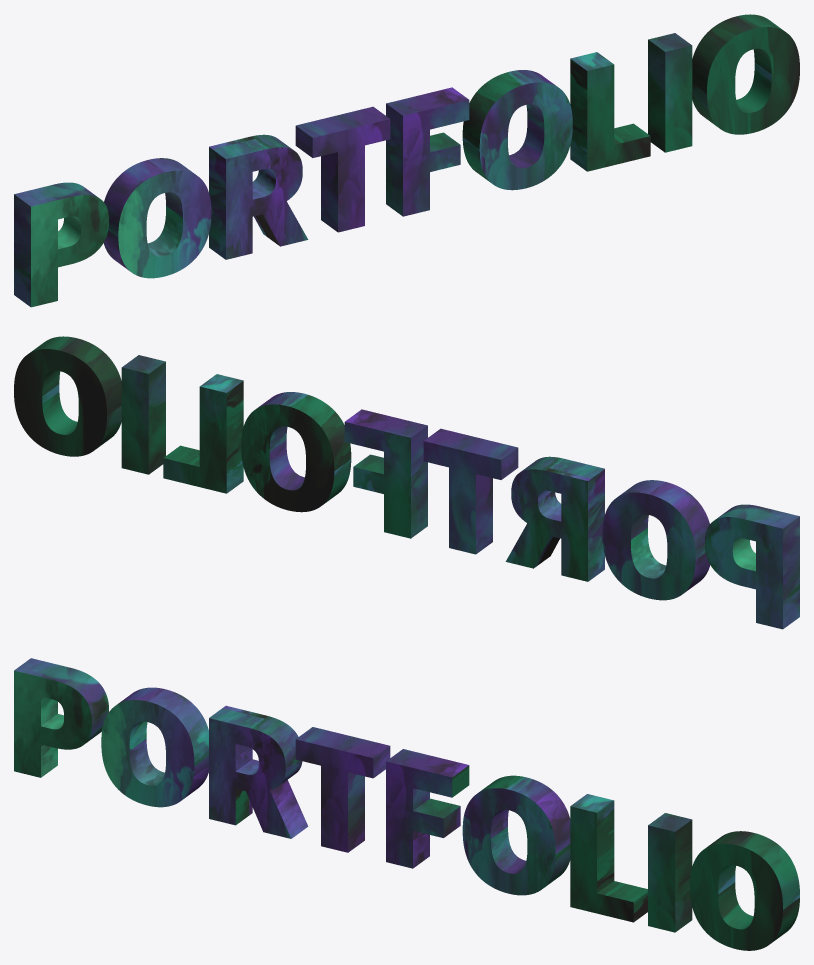
File: title3d.glb
3 views of the same model, one above another, from view 1: azimuth 30°, elevation 25°; view 2: azimuth 150°, elevation 25°; view 3: azimuth 330°, elevation 25° (orthographic).
Parts seen in each view (by area): view 1: O3, O2, O1, R, P, F, T, L, I; view 2: O3, O2, O1, R, P, F, T, L, I; view 3: R, O3, O2, O1, P, F, T, L, I.
Boxes of the visible parts, x1,y1,x2,y2 form: O3: [692, 14, 799, 134]; O2: [462, 70, 572, 190]; O1: [103, 158, 211, 278]; R: [209, 134, 308, 259]; P: [14, 182, 108, 307]; F: [386, 87, 469, 216]; T: [295, 106, 390, 232]; L: [570, 52, 650, 171]; I: [648, 33, 692, 152]; O3: [14, 336, 121, 456]; O2: [241, 392, 351, 512]; O1: [602, 480, 710, 600]; R: [505, 456, 604, 581]; P: [705, 504, 799, 629]; F: [344, 409, 427, 538]; T: [423, 428, 518, 554]; L: [163, 374, 243, 493]; I: [121, 355, 165, 474]; R: [209, 705, 308, 838]; O3: [690, 831, 799, 950]; O2: [462, 775, 570, 895]; O1: [101, 687, 208, 807]; P: [14, 658, 108, 777]; F: [386, 749, 469, 868]; T: [295, 727, 390, 852]; L: [570, 794, 647, 922]; I: [648, 813, 692, 932].
Bounding box in the file's own units: 0.5837 × 0.0755 × 0.0224.
9 materials, 9 textured.
